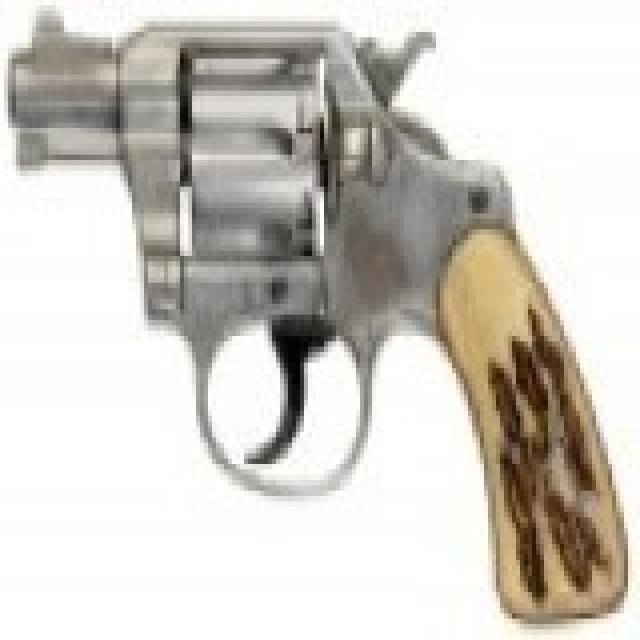Gun: (11, 5, 626, 623)
